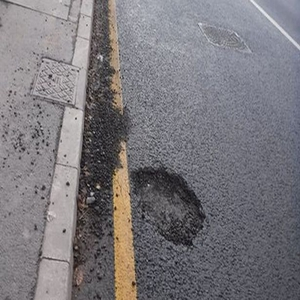pothole: (126, 165, 207, 248)
